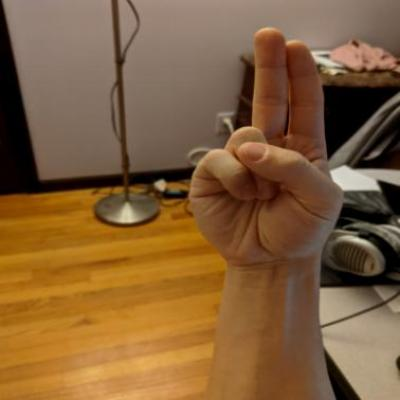hand: (183, 23, 349, 271)
